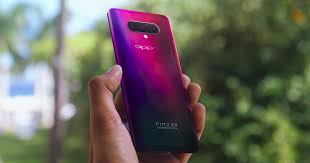oppo: (106, 5, 205, 153)
